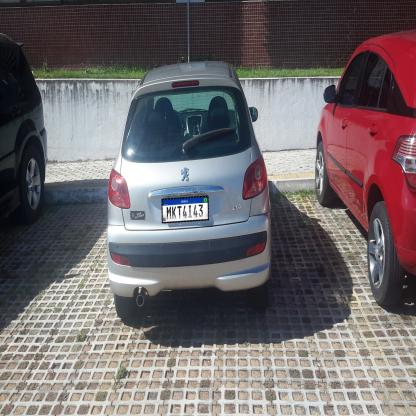PlacaM: (161, 196, 209, 224)
